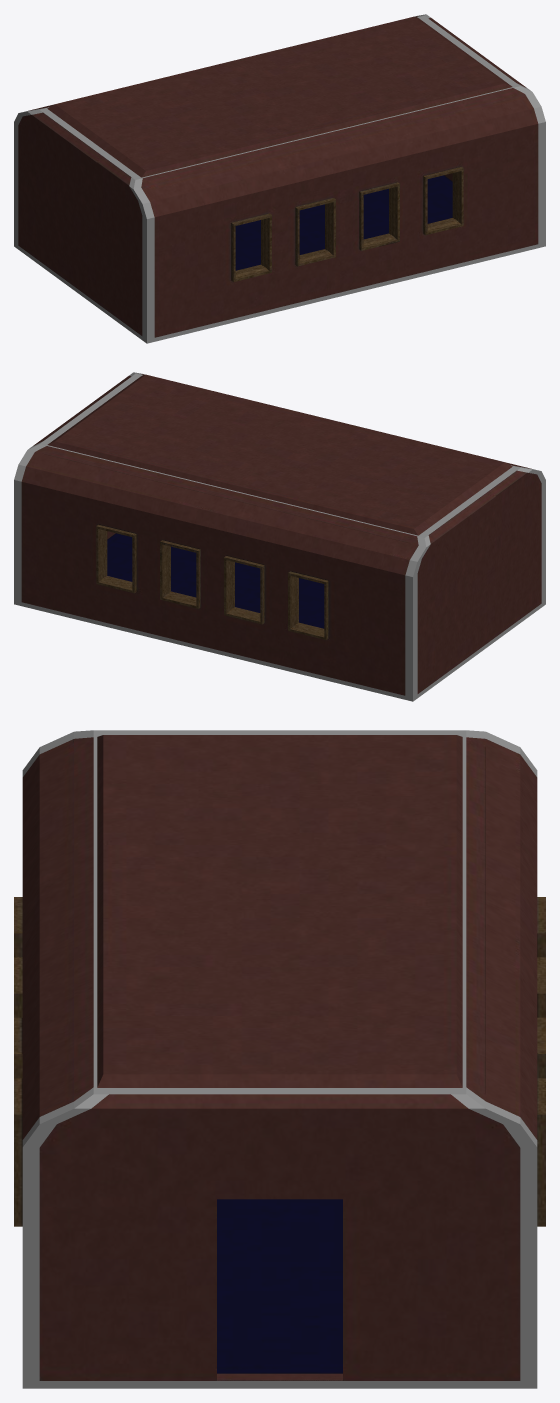
The model's file is train_v2.fbx.
3 views of the same model, one above another, from view 1: azimuth 30°, elevation 25°; view 2: azimuth 150°, elevation 25°; view 3: azimuth 270°, elevation 25° (orthographic). The views are drawn at different scales.
Parts seen in each view (by area): view 1: Plane.001; view 2: Plane.001; view 3: Plane.001.
Part boxes in pixels (box(x1,y1,x2,y2)): Plane.001: box(14, 14, 545, 343); Plane.001: box(14, 372, 545, 701); Plane.001: box(14, 730, 545, 1388).
Bounding box in the file's own units: 1040 × 380 × 620.
Materials: 4 (3 with a texture image).
